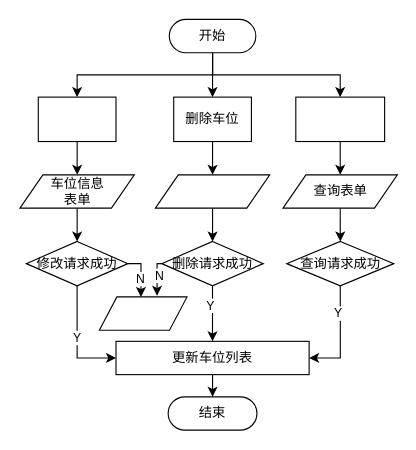
Image size: 416x450. Some labels were removed from this diagram. The box of each missing label's shape, as (x1, y1, x2, y2) in pixels:
模糊查询: (295, 96, 385, 142)
编辑车位: (37, 96, 116, 142)
车位编号: (154, 174, 270, 208)
错误提示: (98, 296, 187, 330)
